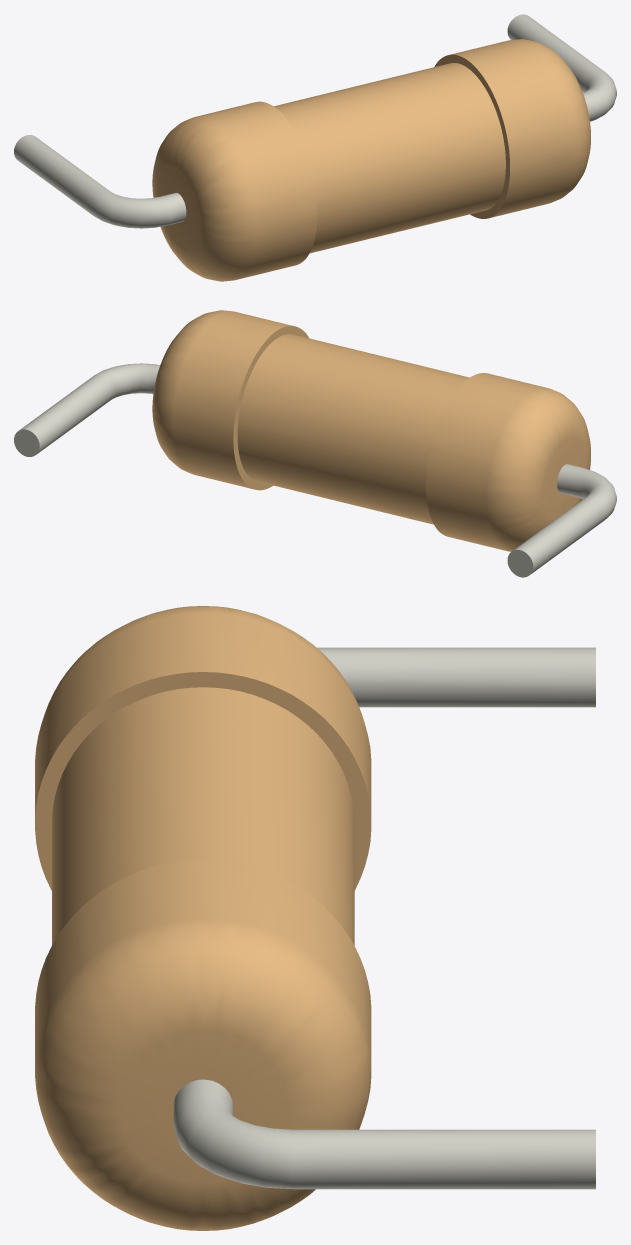
Rendered from r-axial-din0414-l11.9-d4.5-p15.24-h.glb.
3 views of the same model, one above another, from view 1: azimuth 30°, elevation 25°; view 2: azimuth 150°, elevation 25°; view 3: azimuth 270°, elevation 25° (orthographic). The views are drawn at different scales.
Parts seen in each view (by area): view 1: RES-THT-01, PIN-01; view 2: RES-THT-01, PIN-01; view 3: RES-THT-01, PIN-01.
Boxes of the visible parts, x1,y1,x2,y2 form: RES-THT-01: (152,39,590,281); PIN-01: (14,14,616,228); RES-THT-01: (152,310,590,551); PIN-01: (14,363,616,577); RES-THT-01: (35,606,371,1230); PIN-01: (173,647,595,1189).
Size of the model in its own units: 16.03 by 4.5 by 7.5.
